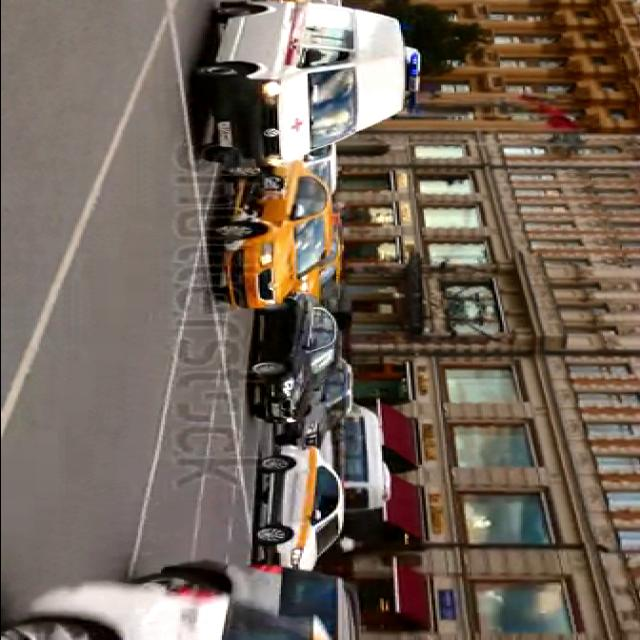ambulance: (192, 2, 422, 168)
